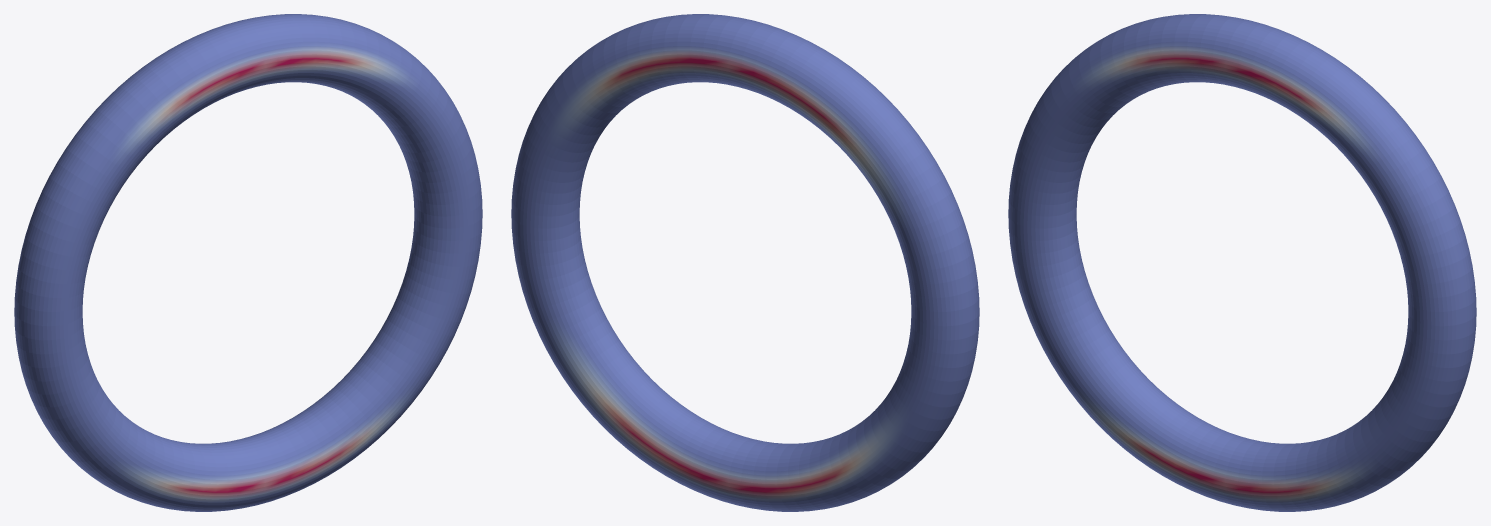
3 views of the same model, side by side, from view 1: azimuth 30°, elevation 25°; view 2: azimuth 150°, elevation 25°; view 3: azimuth 330°, elevation 25° (orthographic).
Parts seen in each view (by area): view 1: world; view 2: world; view 3: world.
Part boxes in pixels (left/top/right/bottom): world: left=14, top=14, right=482, bottom=511; world: left=511, top=14, right=979, bottom=511; world: left=1008, top=14, right=1476, bottom=511.
Bounding box in the file's own units: 17.6 × 17.6 × 2.26.
